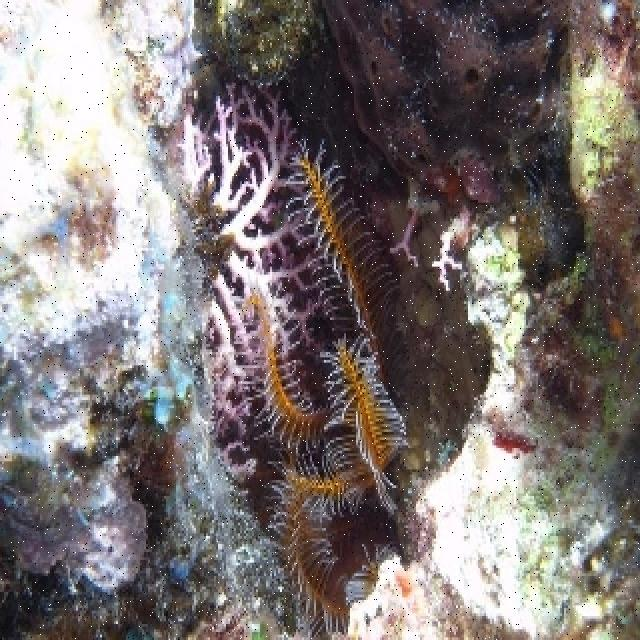reefs: (227, 133, 411, 637), (319, 2, 577, 294), (176, 81, 333, 487)
